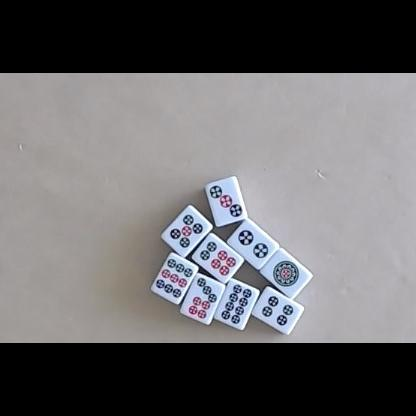1p: (273, 260, 299, 287)
2p: (238, 229, 269, 259)
3p: (210, 185, 243, 218)
4p: (261, 296, 293, 327)
5p: (169, 214, 203, 248)
6p: (200, 242, 236, 276)
7p: (189, 278, 217, 319)
8p: (221, 283, 252, 325)
9p: (156, 258, 193, 298)
